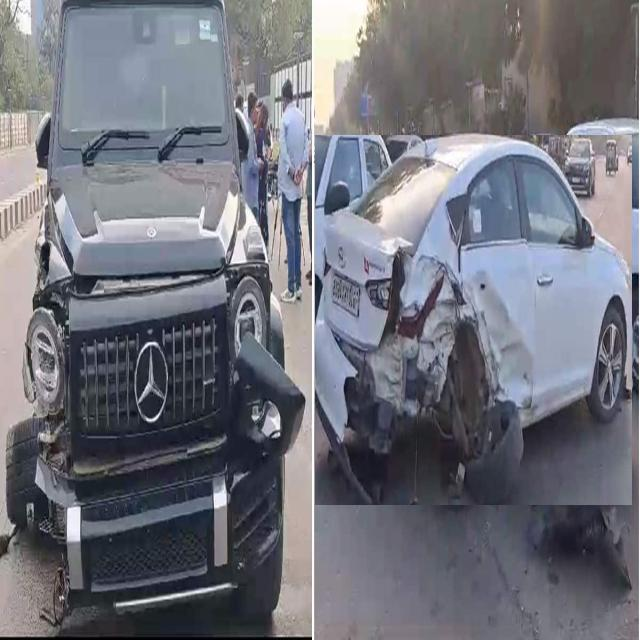accident: (8, 0, 304, 615), (315, 135, 632, 505)
car: (556, 118, 640, 361)
